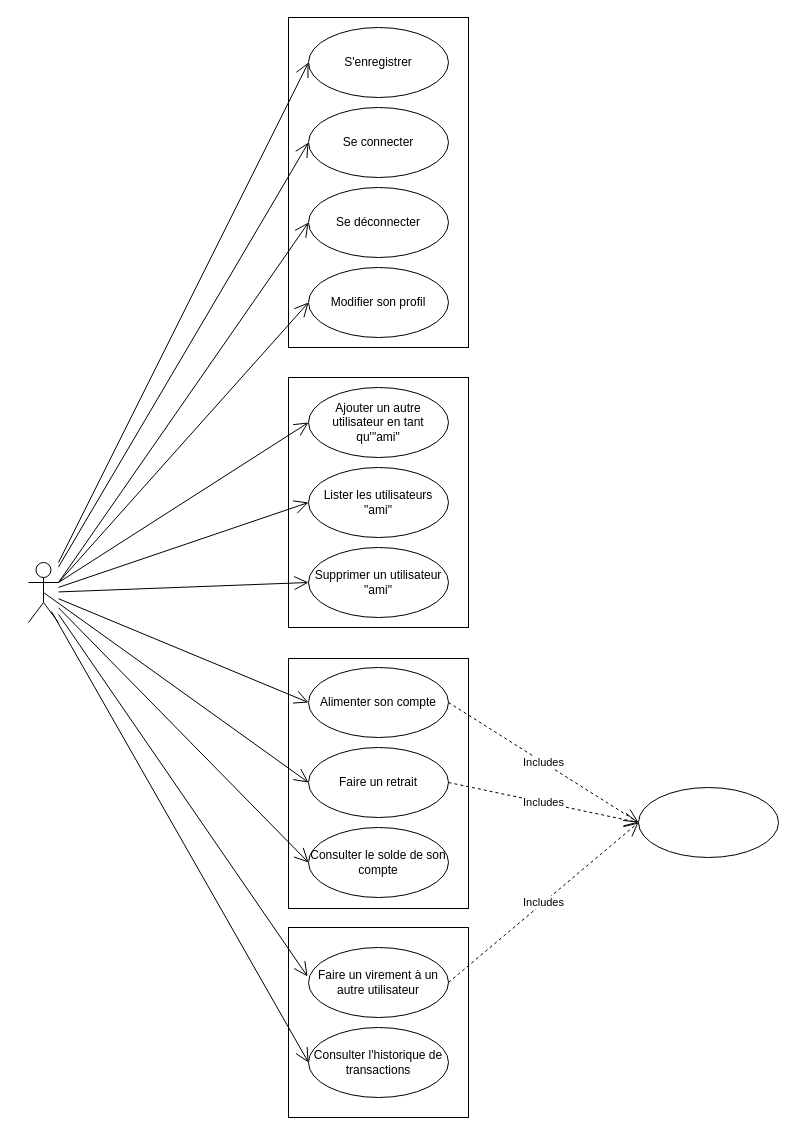
Image size: 796x1135. Some labels were removed from this diagram. Each missing label, with the centre of its shape:
"Prélever la commission" belongs at pixel 708 822.
"Utilisateur" belongs at pixel 43 592.
